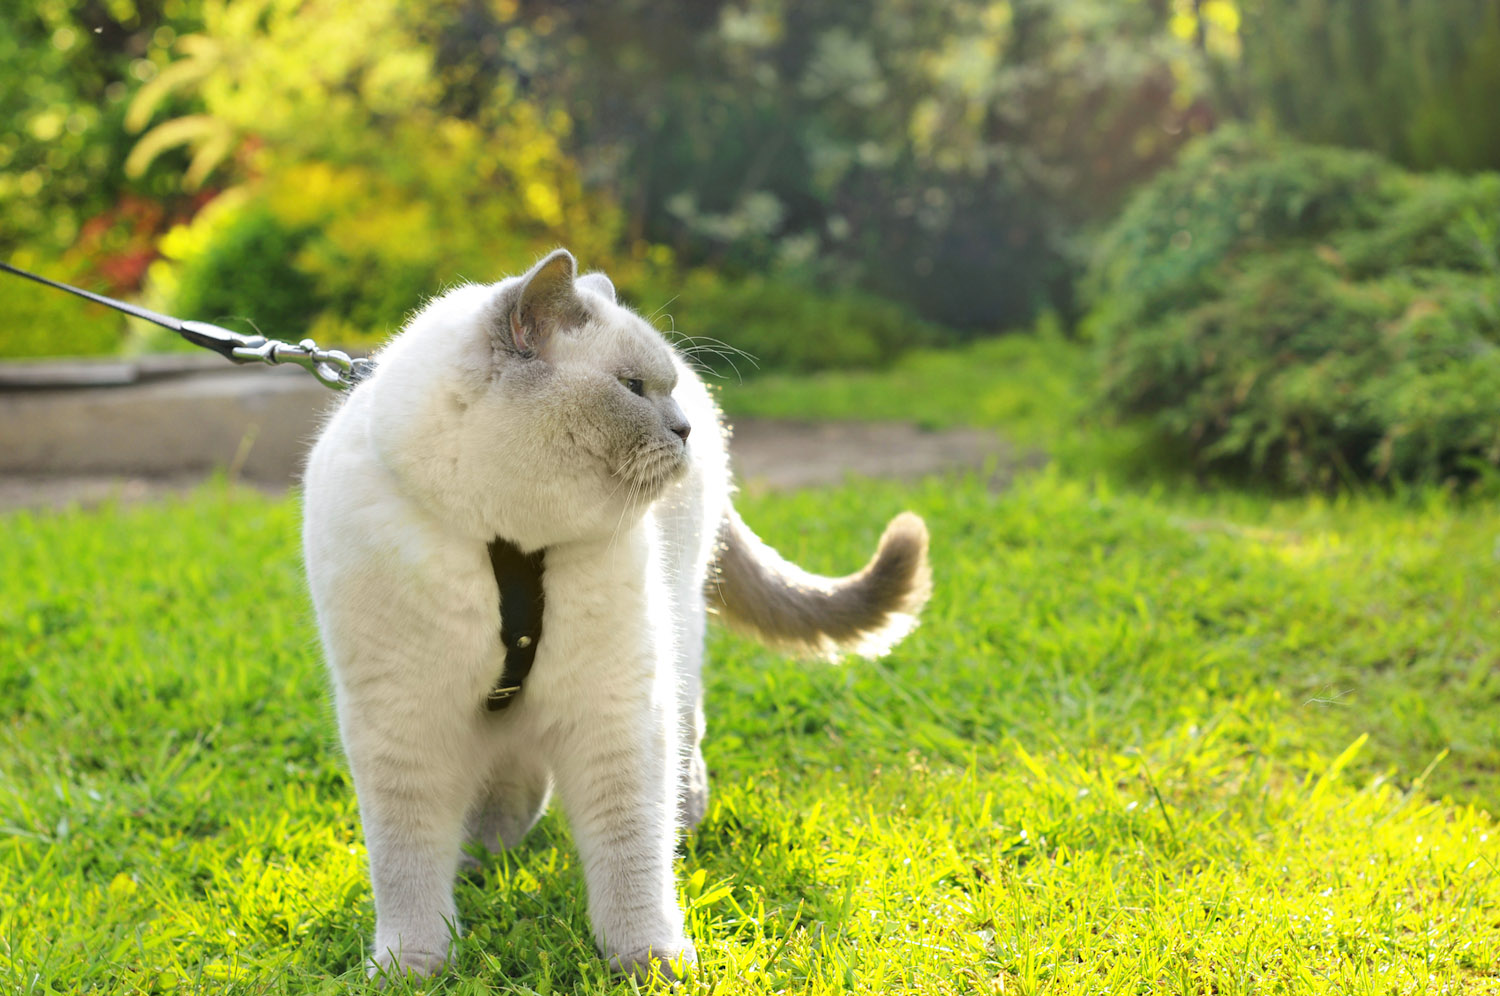cat: (298, 255, 929, 962)
